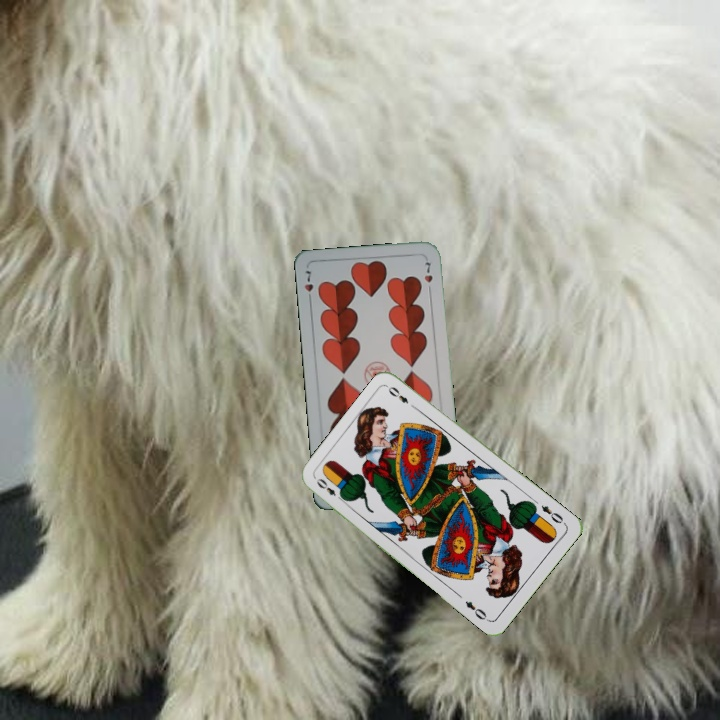EO: (312, 474, 347, 504), (537, 501, 566, 526)
H7: (300, 266, 316, 305)
